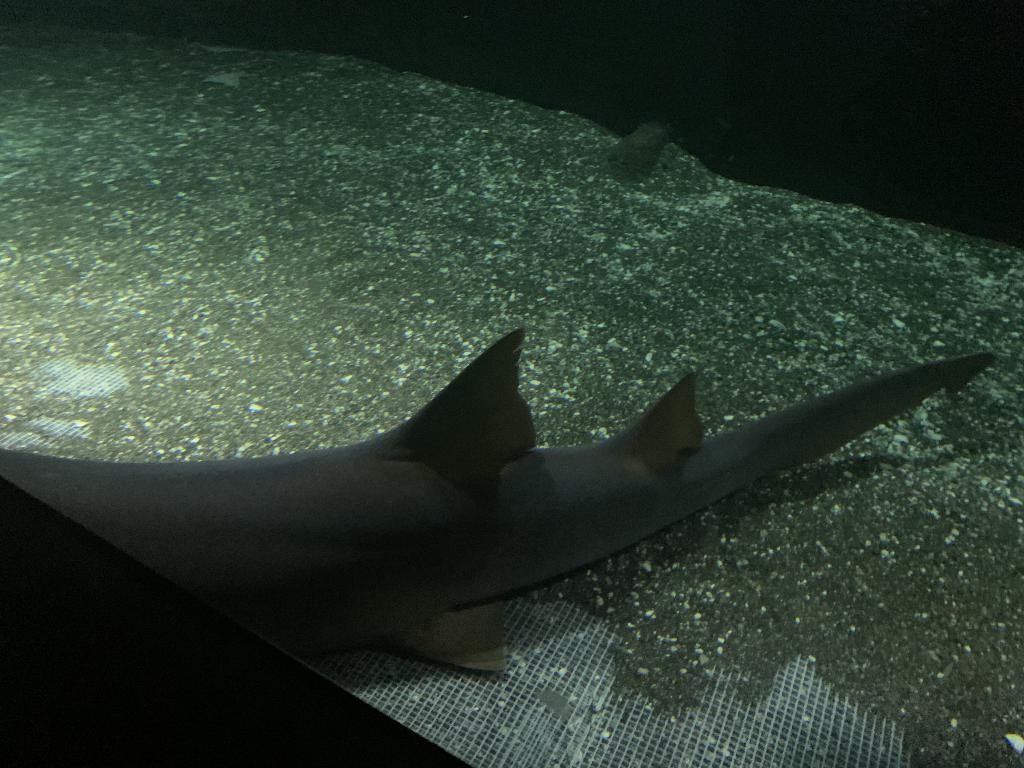shark: (0, 324, 995, 675)
